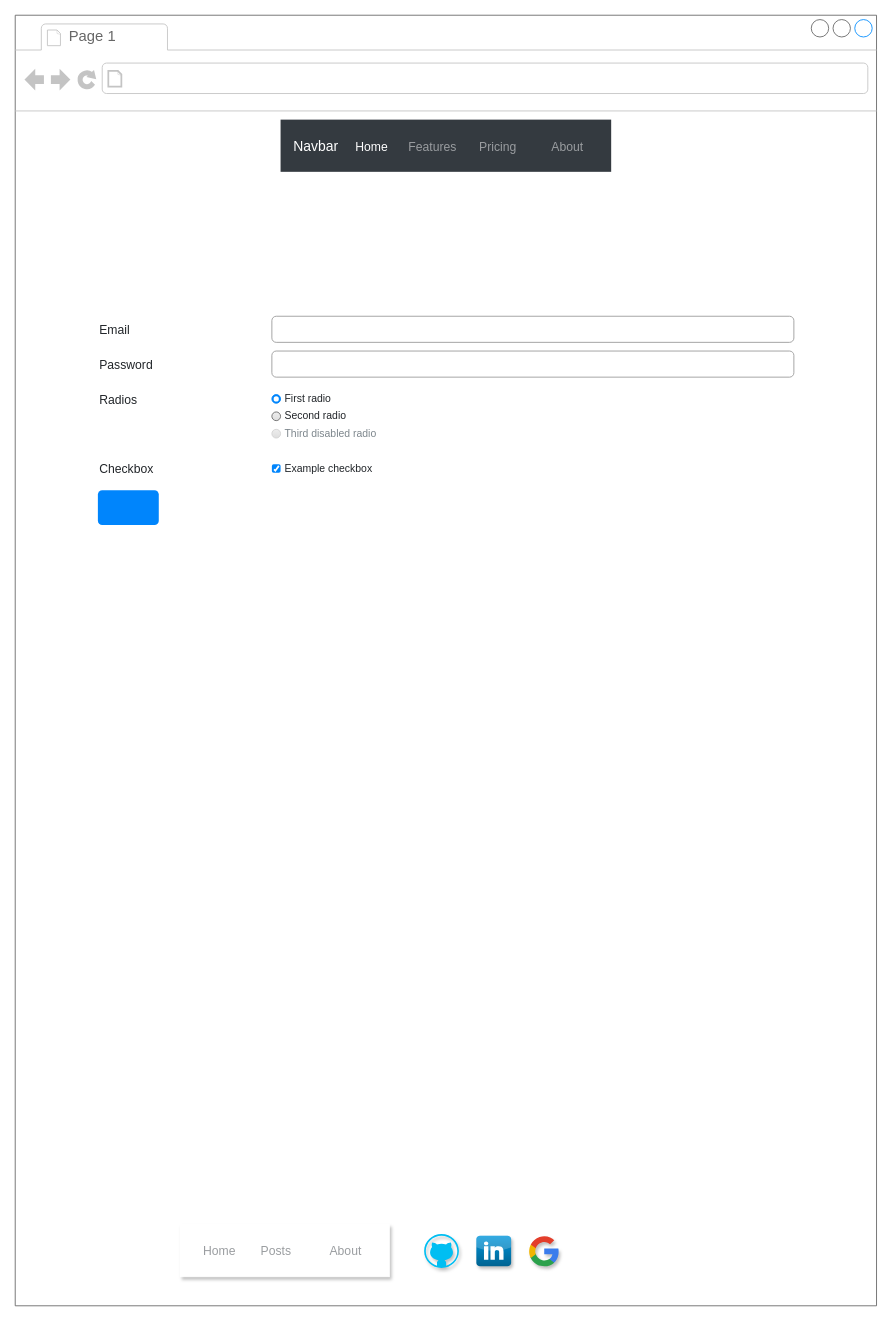
Image size: 892x1322. Some labels were removed from this diagram. The shapes that lost their labels are listed below. From the top down, each one's centre as x and y in pixels, then its label:
At point (236, 78): "https://www.JgPhil.com".
At point (127, 507): "Sign in".
